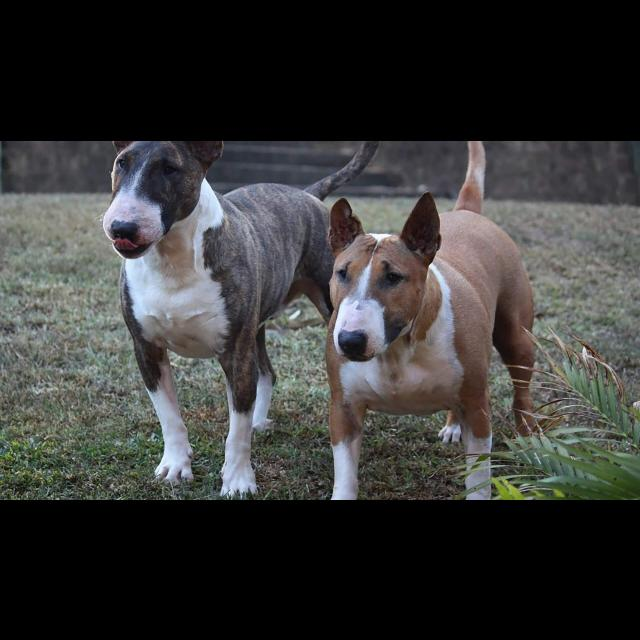bullterrier: (101, 142, 381, 499), (325, 142, 542, 499)
